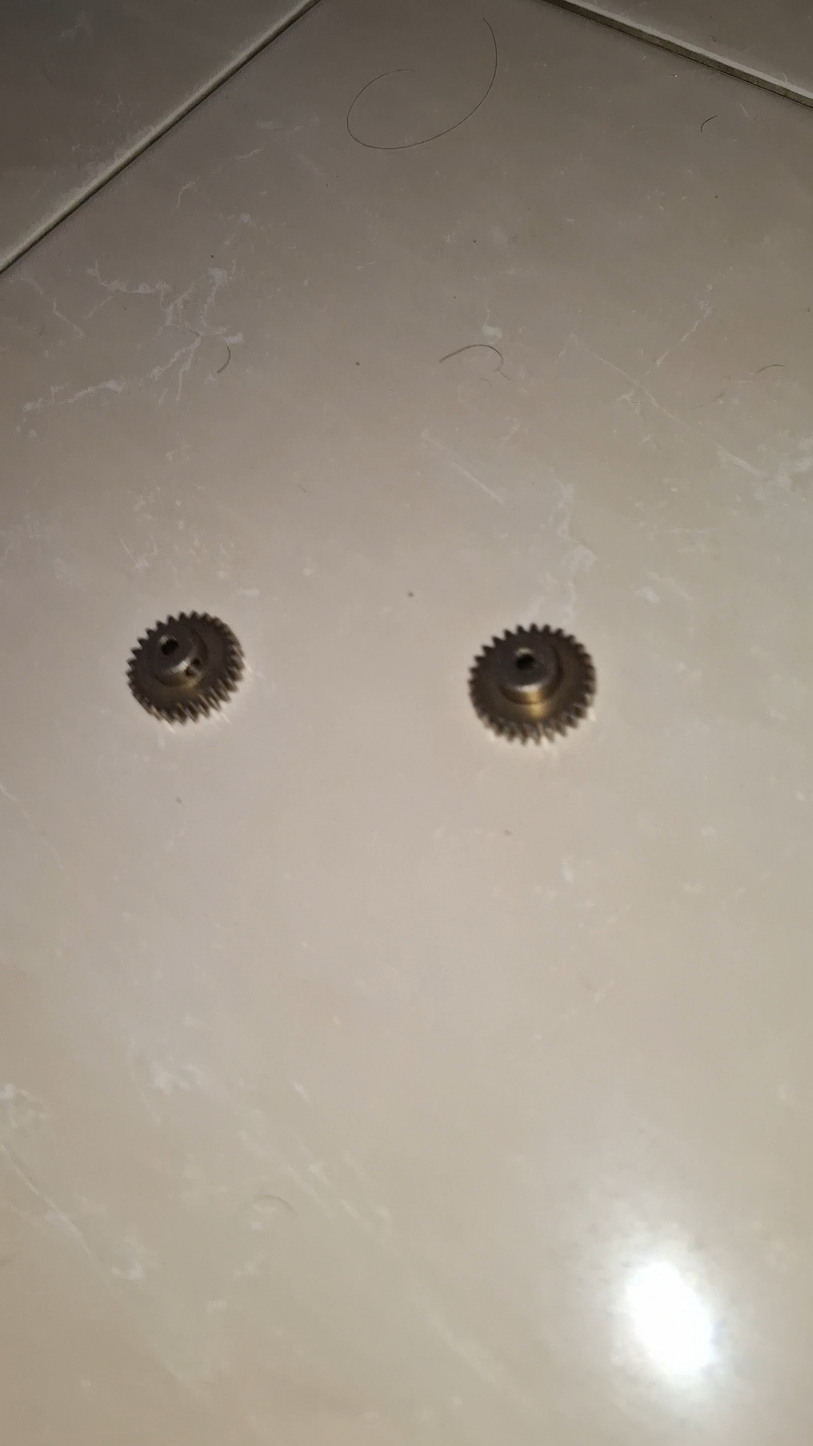spur gear: (469, 625, 595, 742), (128, 613, 243, 722)
